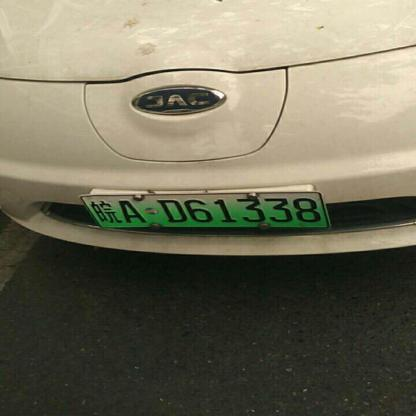lp: (81, 192, 327, 226)
